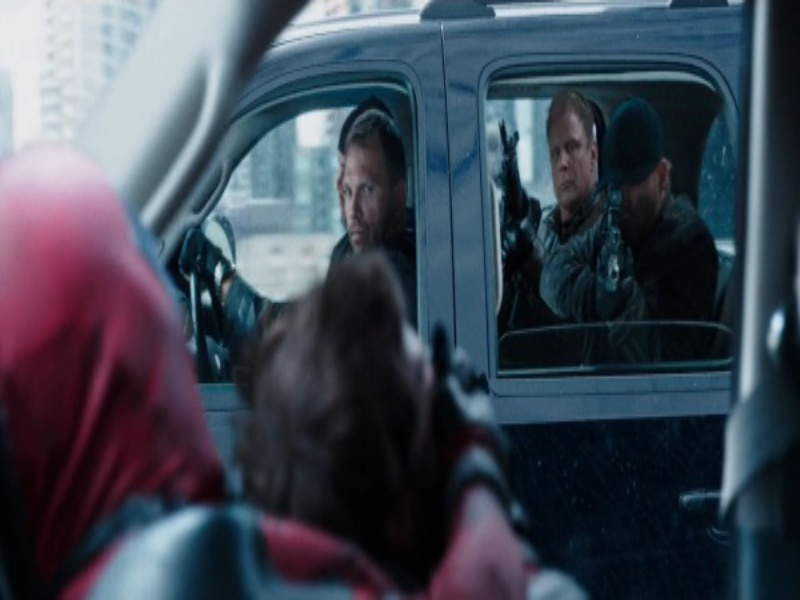person: (1, 140, 593, 598), (244, 264, 565, 590), (190, 122, 408, 349), (555, 102, 711, 362), (508, 88, 605, 320)
weapon: (478, 117, 544, 253), (589, 182, 635, 309)
